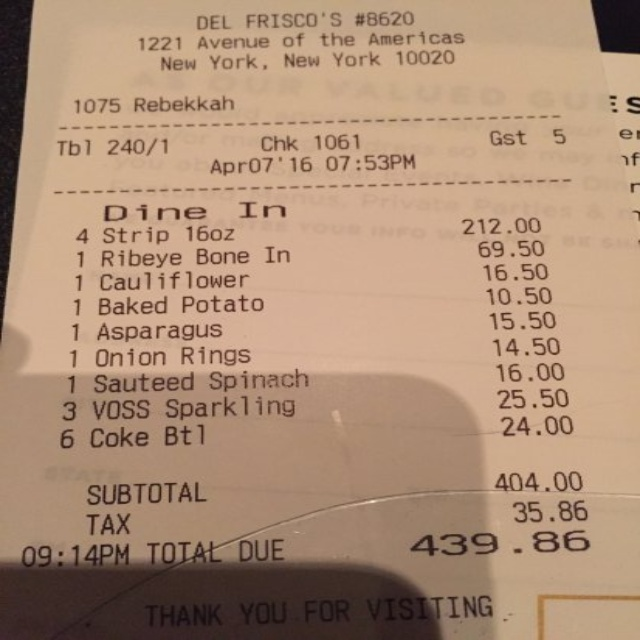invoice_table: (58, 217, 573, 455)
invoice_title: (137, 7, 465, 73)
invoice_total: (145, 528, 589, 565)
